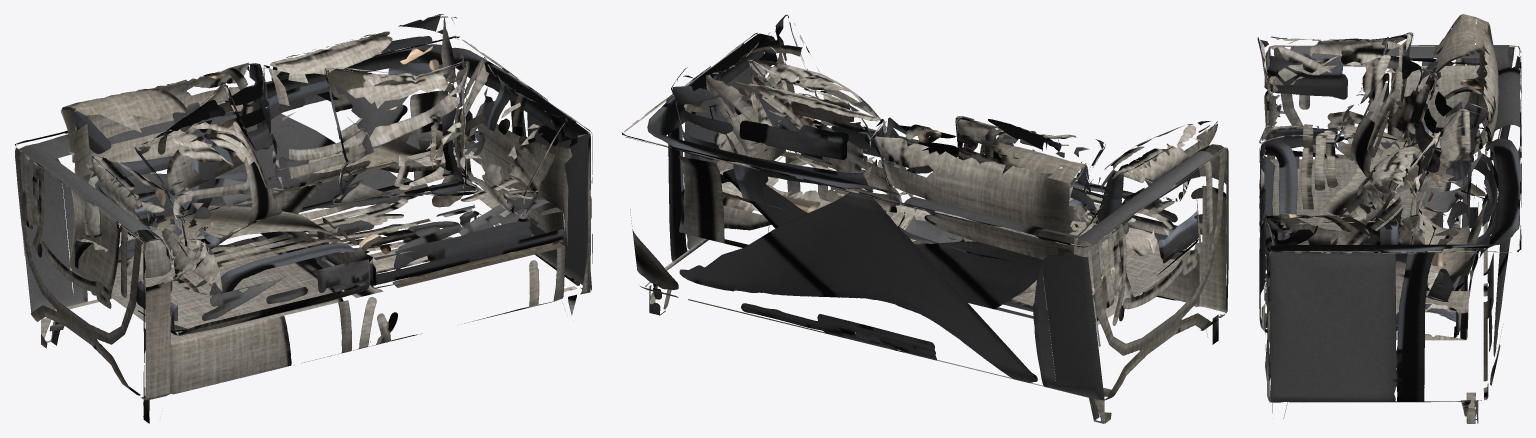
The model's file is raw_model.obj.
3 renders of one model, left to right at view 1: azimuth 30°, elevation 25°; view 2: azimuth 150°, elevation 25°; view 3: azimuth 270°, elevation 25°, orthographic. The views are drawn at different scales.
Parts seen in each view (by area): view 1: solid_004, solid_002, solid_005, solid_006, solid_003, solid_001; view 2: solid_004, solid_002, solid_005, solid_003, solid_006; view 3: solid_004, solid_002, solid_005, solid_001, solid_006, solid_003.
Boxes of the visible parts, <box> form: solid_004: <box>15,14,592,400</box>; solid_002: <box>137,62,478,253</box>; solid_005: <box>91,58,567,295</box>; solid_006: <box>134,61,479,246</box>; solid_003: <box>41,216,576,423</box>; solid_001: <box>91,57,565,296</box>; solid_004: <box>621,32,1228,400</box>; solid_002: <box>749,59,1103,231</box>; solid_005: <box>706,15,1217,232</box>; solid_003: <box>649,208,1218,423</box>; solid_006: <box>748,58,1105,218</box>; solid_004: <box>1259,14,1521,402</box>; solid_002: <box>1323,38,1440,253</box>; solid_005: <box>1259,33,1418,280</box>; solid_001: <box>1257,32,1419,279</box>; solid_006: <box>1345,37,1440,244</box>; solid_003: <box>1272,202,1478,423</box>.
Bounding box in the file's own units: 1.79 × 0.899 × 0.9585.
